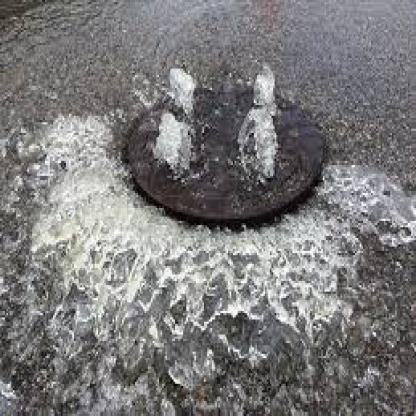drainage overflow-repair-: (25, 53, 393, 344)
